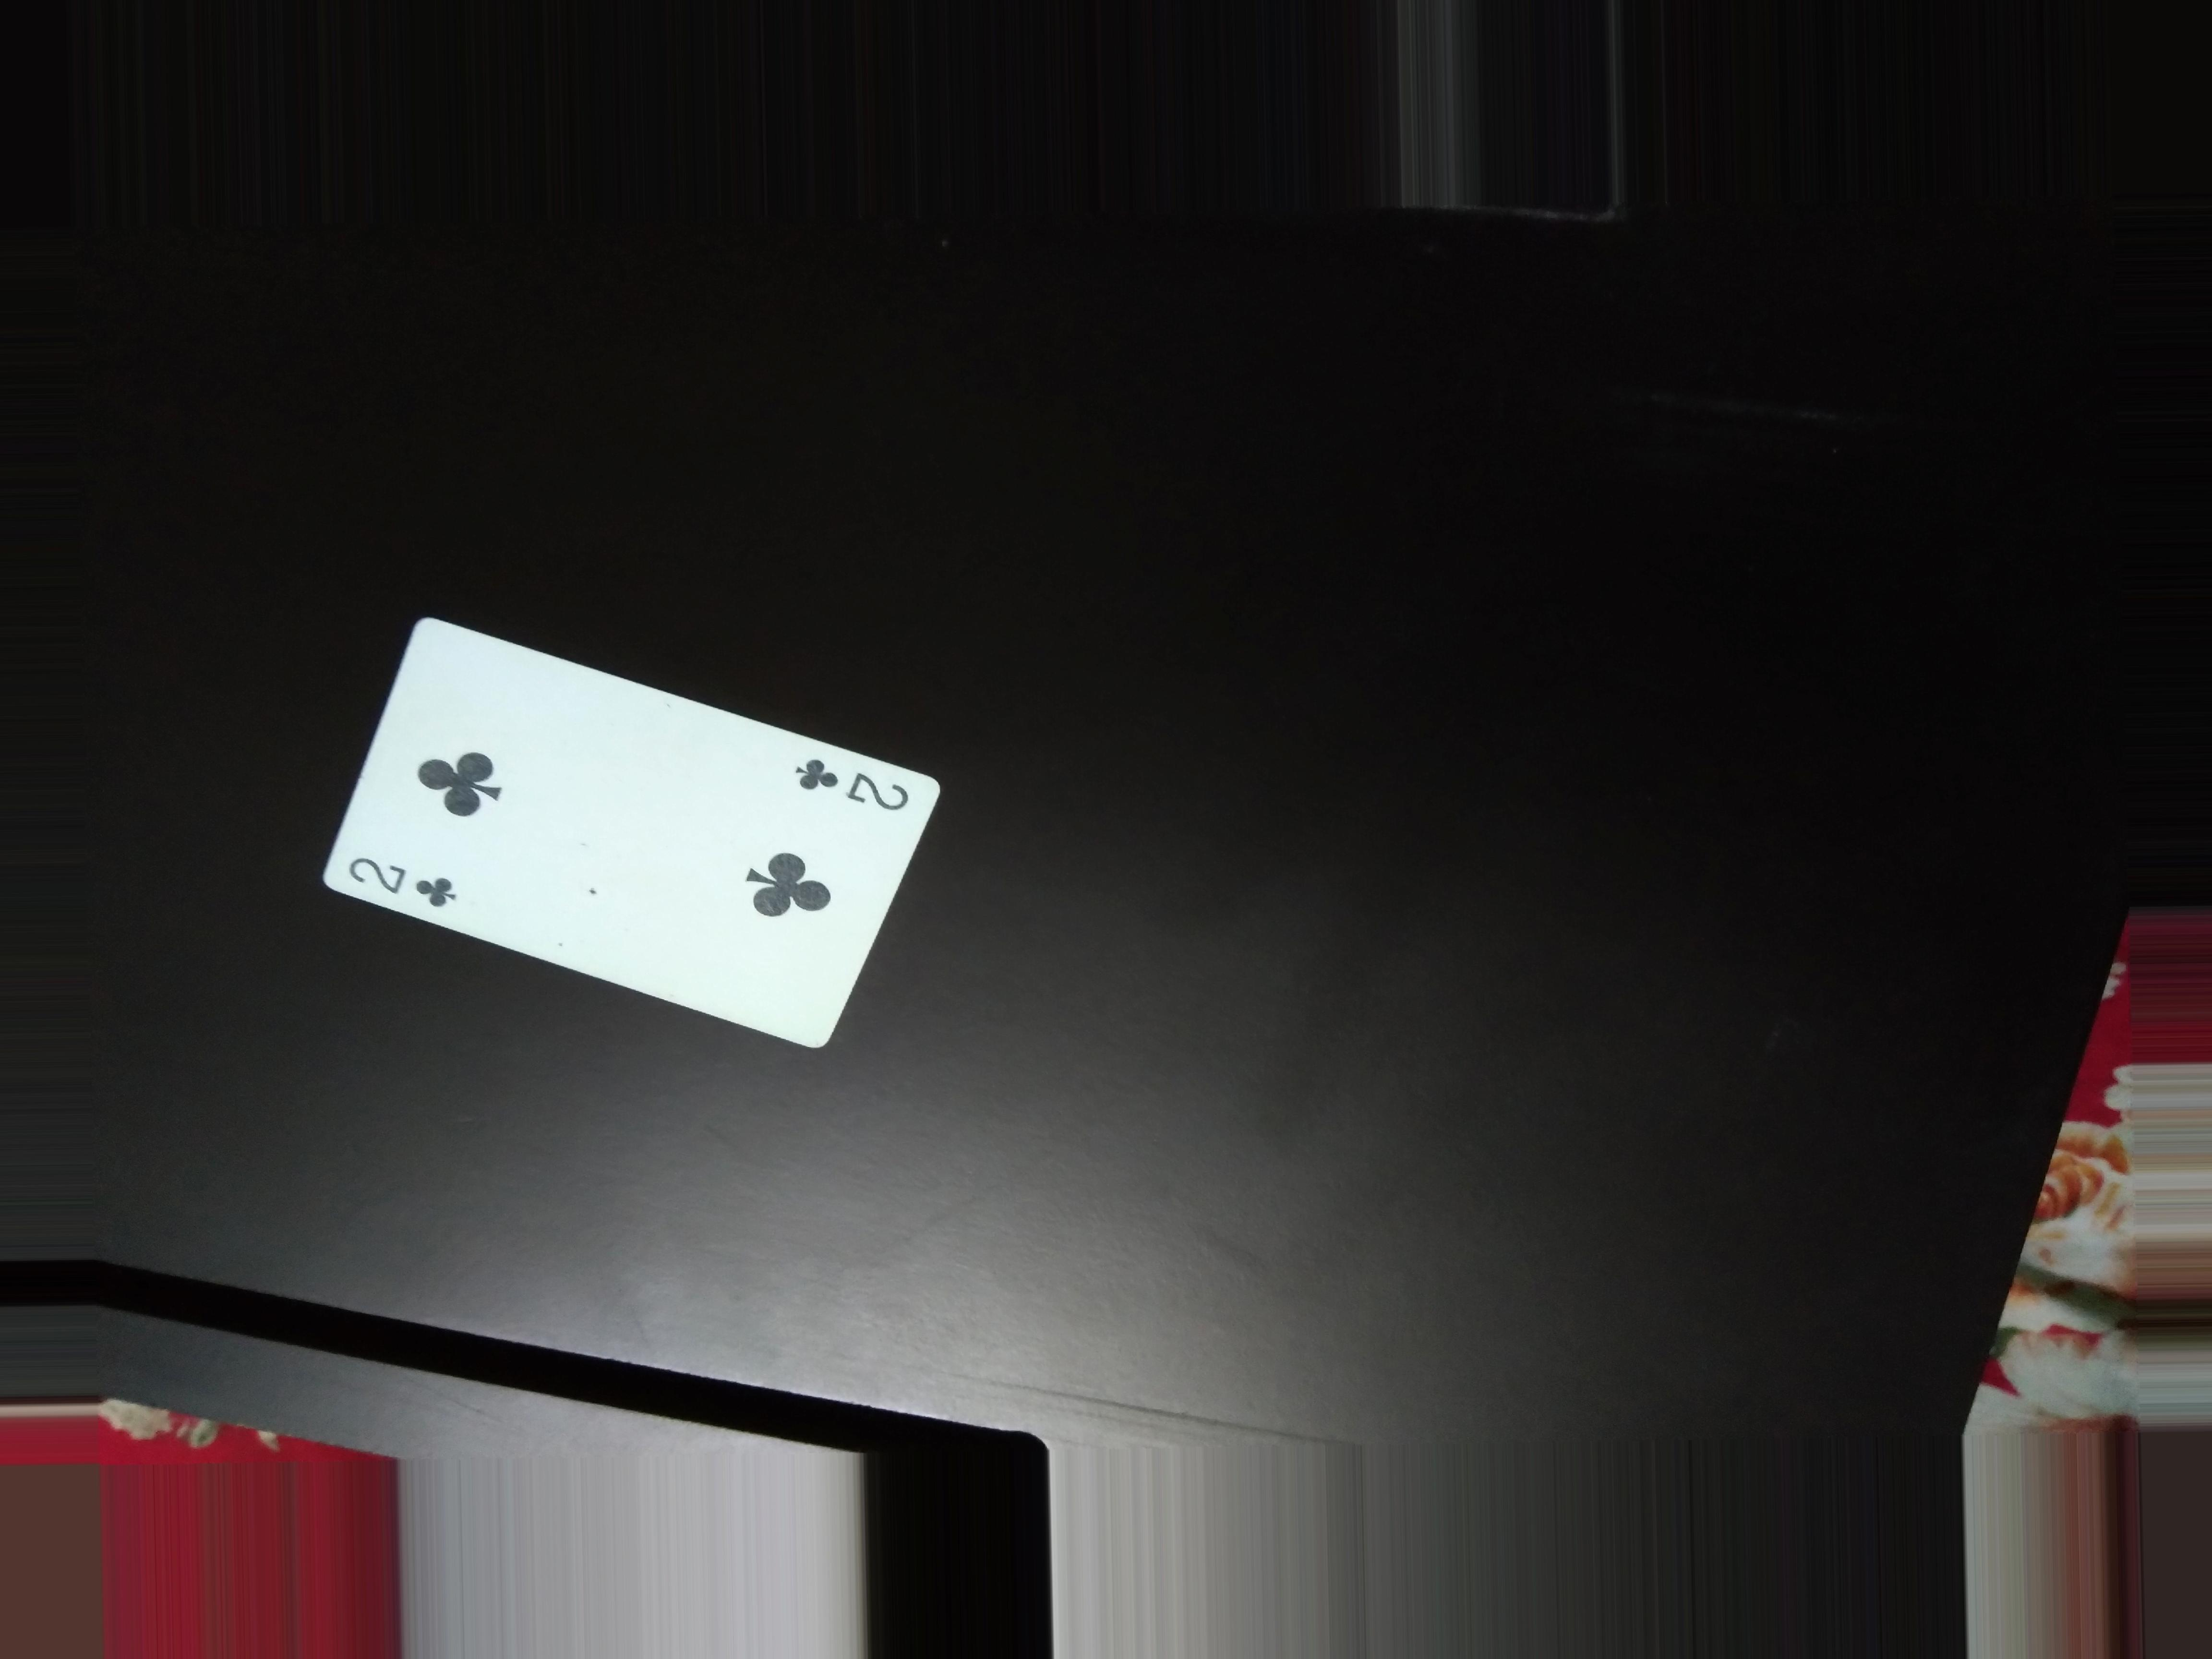2C: (340, 842, 477, 920)
